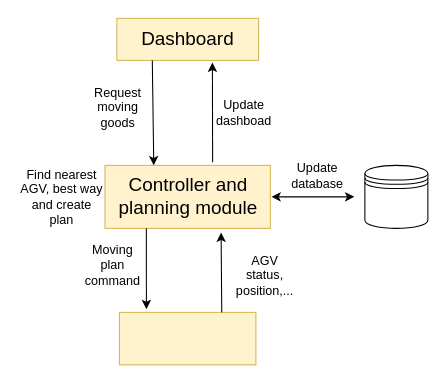
Image size: 446x383. Some labels were removed from this diagram. The centre of each missing label's shape, as x and y in pixels:
Database: (396,196)
Nearest AGV: (187,338)
